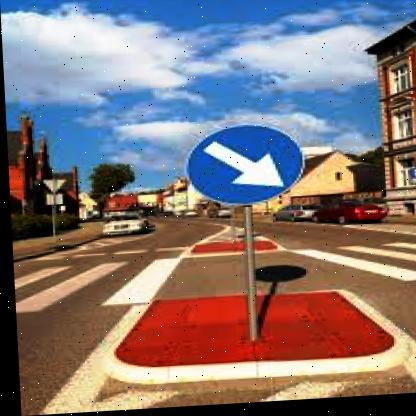Keep right: (180, 120, 306, 209)
